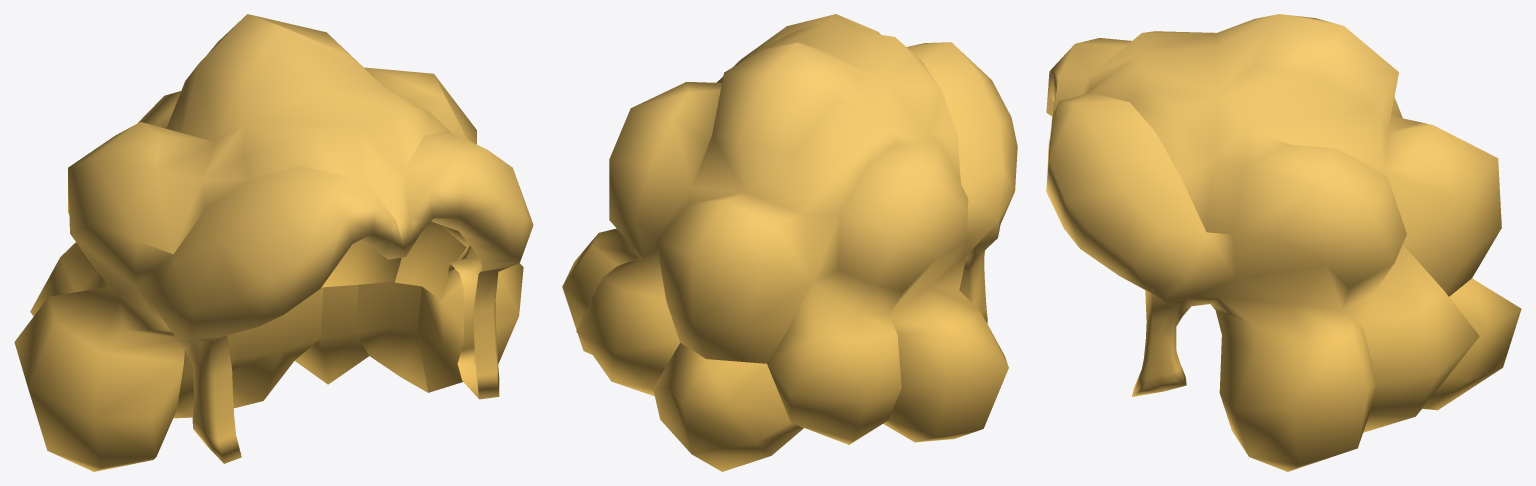
The model's file is Hair_Yellow_17.fbx.
3 renders of one model, left to right at view 1: azimuth 30°, elevation 25°; view 2: azimuth 150°, elevation 25°; view 3: azimuth 270°, elevation 25°, orthographic. The views are drawn at different scales.
Parts seen in each view (by area): view 1: Hair_Yellow_17; view 2: Hair_Yellow_17; view 3: Hair_Yellow_17.
Boxes of the visible parts, bbox=[...] form: Hair_Yellow_17: bbox=[14, 14, 533, 471]; Hair_Yellow_17: bbox=[562, 14, 1017, 471]; Hair_Yellow_17: bbox=[1046, 14, 1521, 471].
Bounding box in the file's own units: 85.16 × 70.13 × 76.23.
